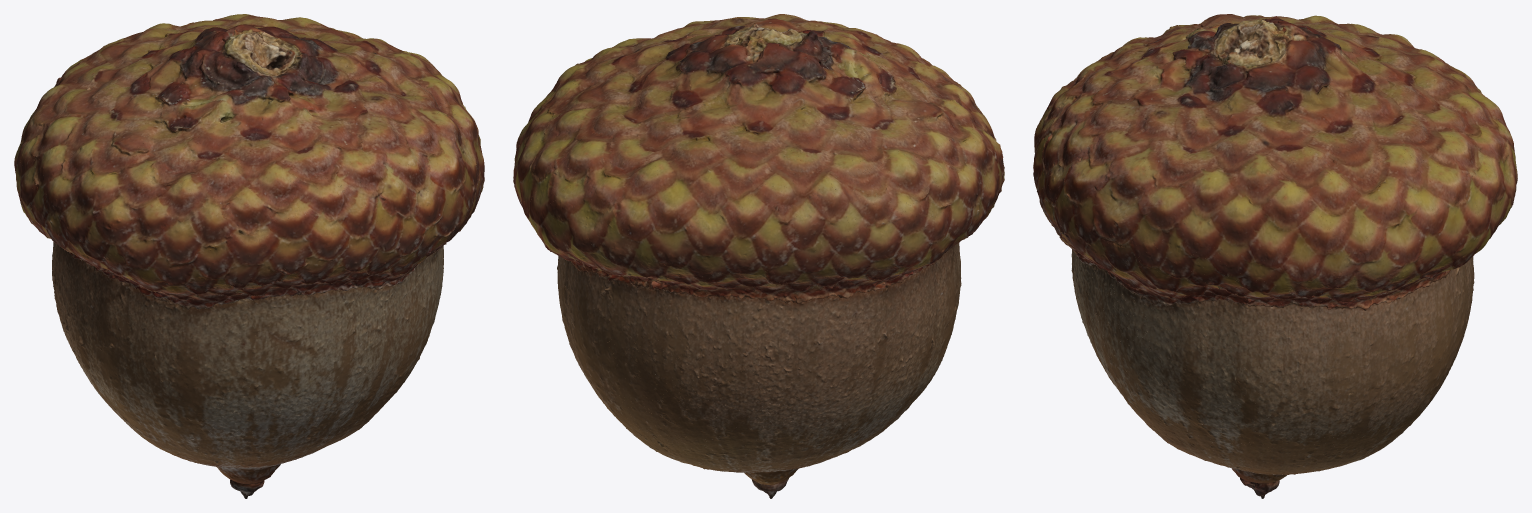
File: acorn.gltf
The picture shows the model from 3 angles, left to right: view 1: azimuth 30°, elevation 25°; view 2: azimuth 150°, elevation 25°; view 3: azimuth 270°, elevation 25°; orthographic projection. The views are drawn at different scales.
Visible parts, largest first — view 1: Object_6, Object_8, Object_4, Object_7, Object_2, Object_9, Object_3, Object_5; view 2: Object_8, Object_9, Object_7, Object_3, Object_6, Object_4, Object_2, Object_5; view 3: Object_6, Object_7, Object_2, Object_3, Object_8, Object_9, Object_5, Object_4.
Boxes of the visible parts, bbox=[...] form: Object_6: bbox=[23, 14, 484, 298]; Object_8: bbox=[14, 23, 484, 308]; Object_4: bbox=[17, 26, 480, 498]; Object_7: bbox=[152, 14, 484, 290]; Object_2: bbox=[75, 74, 463, 468]; Object_9: bbox=[14, 14, 457, 304]; Object_3: bbox=[58, 31, 454, 441]; Object_5: bbox=[166, 30, 471, 480]; Object_8: bbox=[514, 20, 1004, 295]; Object_9: bbox=[513, 19, 984, 299]; Object_7: bbox=[514, 17, 901, 298]; Object_3: bbox=[531, 23, 868, 472]; Object_6: bbox=[513, 14, 964, 298]; Object_4: bbox=[548, 29, 1002, 498]; Object_2: bbox=[557, 163, 897, 471]; Object_5: bbox=[544, 32, 864, 470]; Object_6: bbox=[1033, 22, 1481, 308]; Object_7: bbox=[1033, 16, 1517, 305]; Object_2: bbox=[1040, 72, 1473, 474]; Object_3: bbox=[1059, 20, 1513, 454]; Object_8: bbox=[1049, 14, 1488, 300]; Object_9: bbox=[1045, 14, 1517, 307]; Object_5: bbox=[1060, 24, 1485, 469]; Object_4: bbox=[1050, 19, 1504, 498].
Bounding box in the file's own units: 1.31 × 1.41 × 1.3.
Materials: 2 (2 with a texture image).
